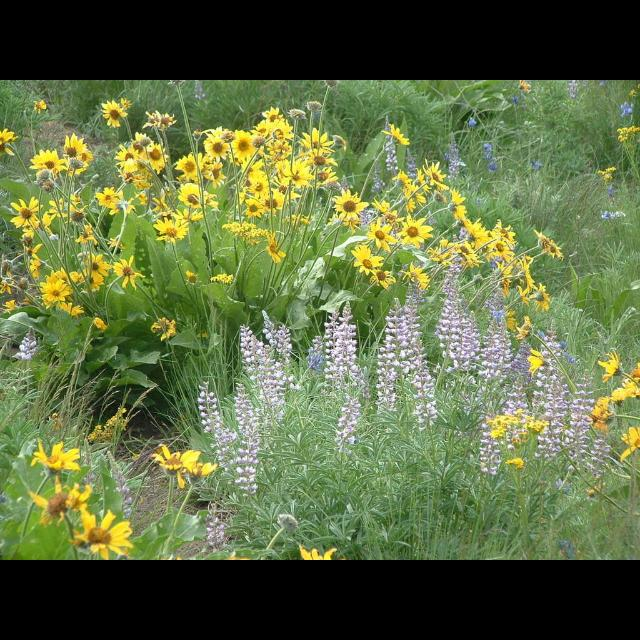Flower: (1, 80, 640, 560), (146, 446, 210, 494)
